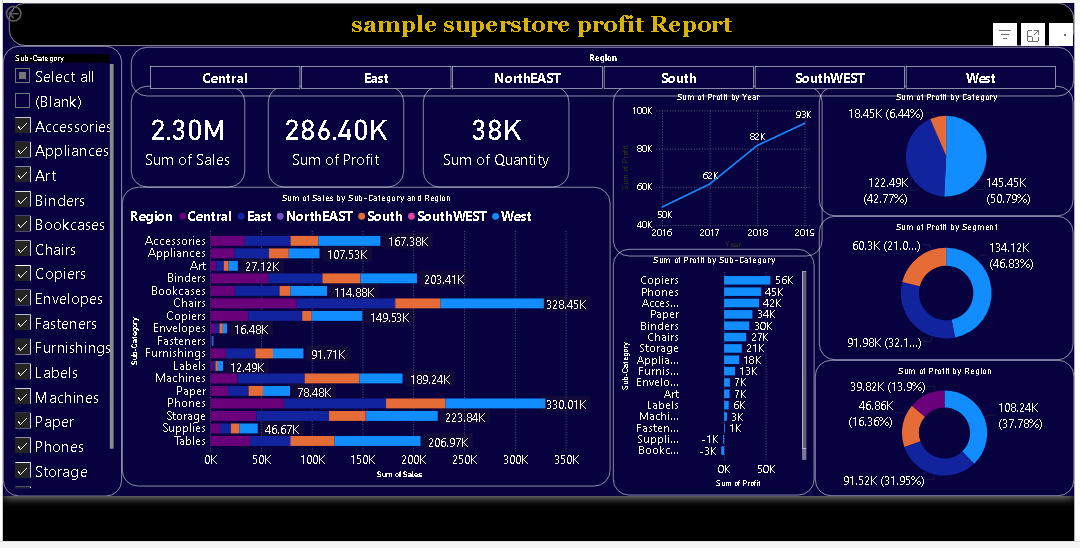

This screenshot's page, from the dashboard's own definition file:
{"tool":"powerbi","page":{"name":"Page 1","canvas":[2000,920],"ordinal":0},"visuals":[{"type":"textbox","box":[10.8,0,1989.2,79.6],"z":0},{"type":"pieChart","fields":{"Y":["Sum(Orders.Profit)"],"Category":["Orders.Category"]},"box":[1524.7,154.8,475.3,243],"z":1000},{"type":"donutChart","fields":{"Y":["Sum(Orders.Profit)"],"Category":["Orders.Segment"]},"box":[1524.7,397.8,475.3,268.8],"z":2000},{"type":"donutChart","fields":{"Y":["Sum(Orders.Profit)"],"Category":["Orders.Region"]},"box":[1516.1,666.7,483.9,253.8],"z":3000},{"type":"barChart","fields":{"Category":["Orders.Sub-Category"],"Y":["Sum(Orders.Profit)"]},"box":[1139.8,460.2,376.3,460.2],"z":4000},{"type":"lineChart","fields":{"Y":["Sum(Orders.Profit)"],"Category":["Orders.Order Date.Variation.Date Hierarchy.Year","Orders.Order Date.Variation.Date Hierarchy.Quarter","Orders.Order Date.Variation.Date Hierarchy.Month","Orders.Order Date.Variation.Date Hierarchy.Day"]},"box":[1139.8,154.8,391.4,318.3],"z":5000},{"type":"slicer","fields":{"Values":["Orders.Sub-Category"]},"box":[0,79.6,221.5,840.9],"z":6000},{"type":"barChart","fields":{"Category":["Orders.Sub-Category"],"Y":["Sum(Orders.Sales)"],"Series":["Orders.Region"]},"box":[221.5,344.1,911.8,559.1],"z":7000},{"type":"card","fields":{"Values":["Sum(Orders.Sales)"]},"box":[238.7,154.8,212.9,189.2],"z":8000},{"type":"card","fields":{"Values":["Sum(Orders.Profit)"]},"box":[494.6,154.8,253.8,189.2],"z":9000},{"type":"card","fields":{"Values":["Sum(Orders.Quantity)"]},"box":[784.9,154.8,273.1,189.2],"z":10000},{"type":"actionButton","box":[0,0,100,40],"z":11000},{"type":"slicer","title":"Region","fields":{"Values":["Orders.Region"]},"box":[238.7,81.7,1761.3,92.5],"z":11001}]}

Visuals, with their boxes in screenshot pixels (x1, y1, x2, y2):
textbox: region(6, 0, 1065, 42)
pieChart - Sum(Orders.Profit) x Orders.Category: region(812, 82, 1065, 212)
donutChart - Sum(Orders.Profit) x Orders.Segment: region(812, 212, 1065, 355)
donutChart - Sum(Orders.Profit) x Orders.Region: region(807, 355, 1065, 490)
barChart - Orders.Sub-Category x Sum(Orders.Profit): region(607, 245, 807, 490)
lineChart - Sum(Orders.Profit) x Orders.Order Date.Variation.Date Hierarchy.Year: region(607, 82, 815, 252)
slicer - Orders.Sub-Category: region(0, 42, 118, 490)
barChart - Orders.Sub-Category x Sum(Orders.Sales): region(118, 183, 604, 481)
card - Sum(Orders.Sales): region(127, 82, 240, 183)
card - Sum(Orders.Profit): region(263, 82, 399, 183)
card - Sum(Orders.Quantity): region(418, 82, 563, 183)
actionButton: region(0, 0, 53, 21)
"Region" slicer: region(127, 44, 1065, 93)
